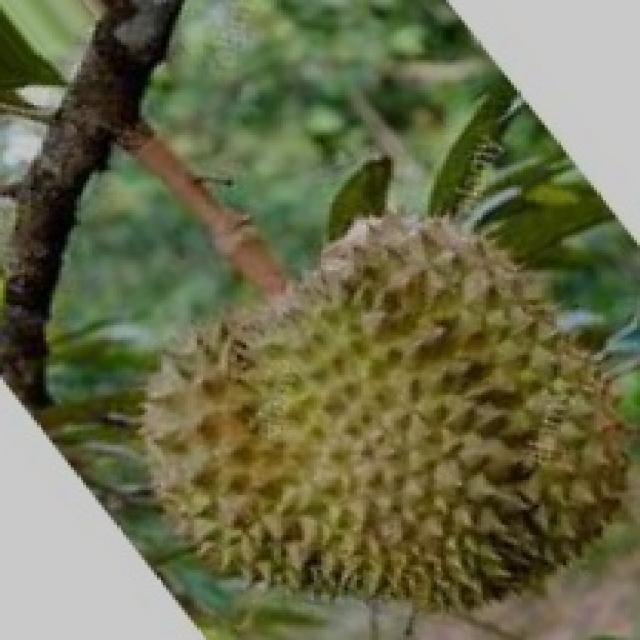fruit: (255, 200, 640, 638), (46, 215, 428, 637)
